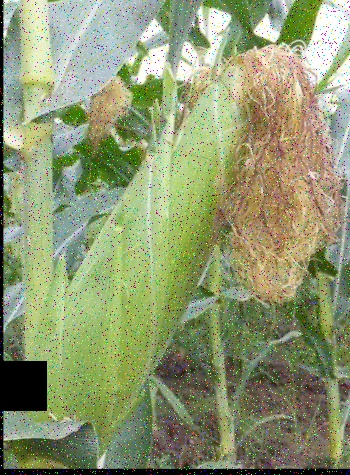corn_plant: (11, 30, 327, 461)
